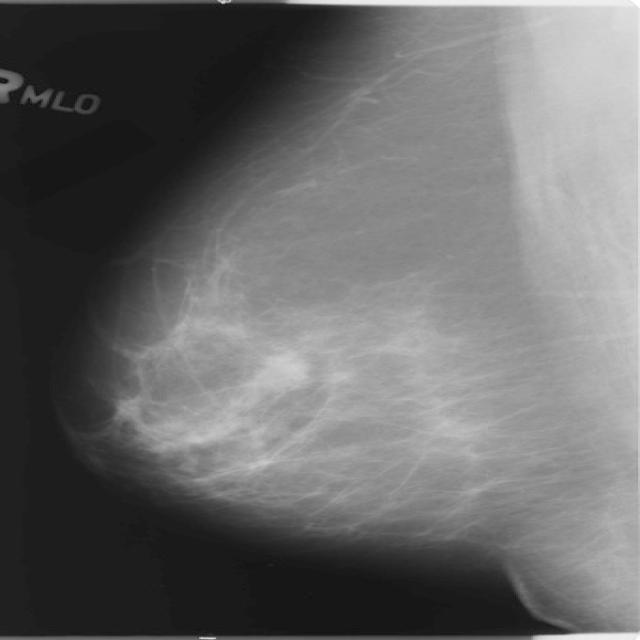tumour: (248, 353, 306, 390)
